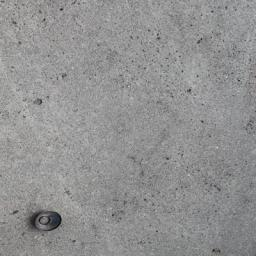FOD: (32, 206, 65, 235)
